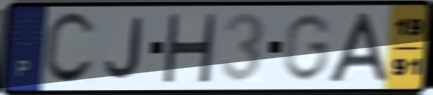3: (221, 10, 270, 86)
A: (325, 10, 392, 85)
C: (41, 10, 98, 88)
G: (280, 12, 334, 84)
H: (160, 11, 219, 84)
J: (102, 15, 145, 82)
